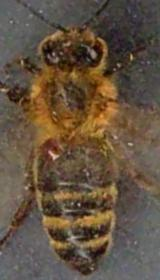varroa_mite: (36, 134, 68, 166)
